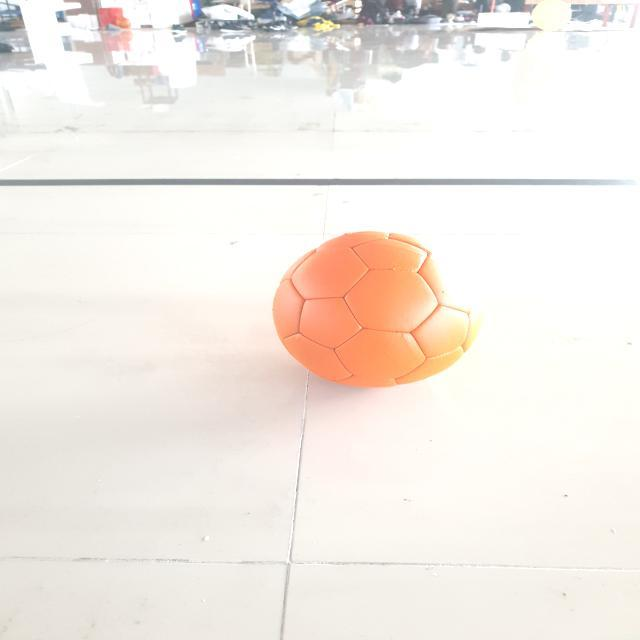bola: (268, 222, 487, 396)
